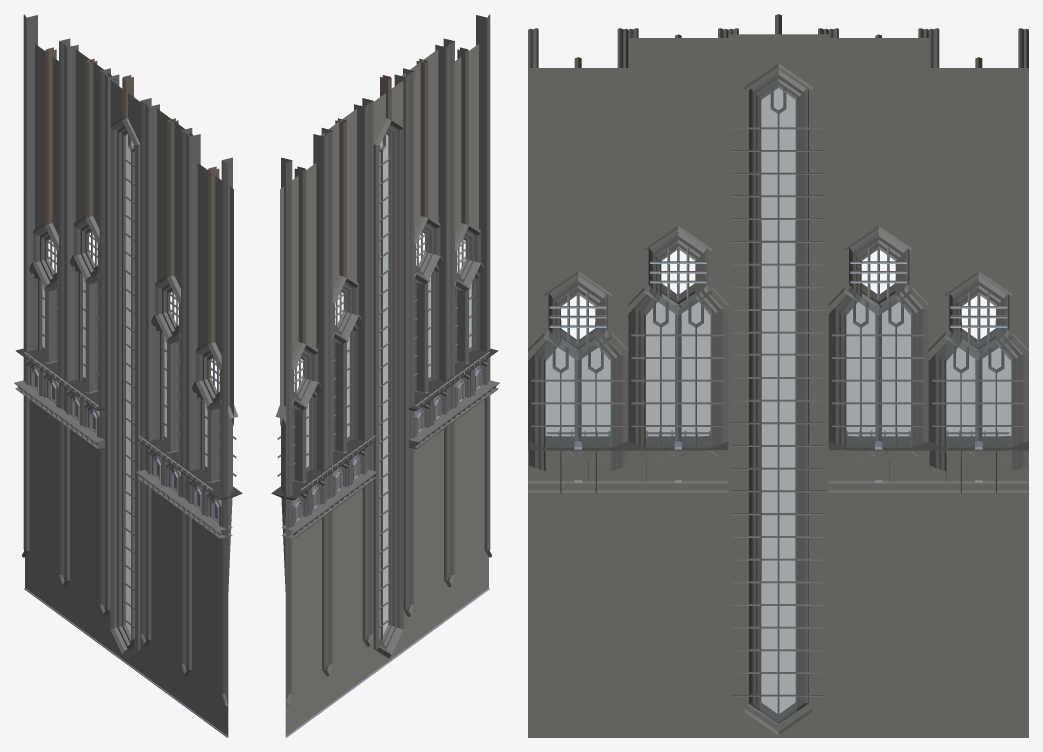
File: Back_Tile.fbx
The picture shows the model from 3 angles, left to right: view 1: azimuth 30°, elevation 25°; view 2: azimuth 150°, elevation 25°; view 3: azimuth 270°, elevation 25°; orthographic projection. The views are drawn at different scales.
Visible parts, largest first — view 1: polySurface130, pCube832, pCube217, pCube304, pCube566, polySurface501, polySurface115, polySurface575, polySurface171, polySurface605, polySurface560, polySurface603 (+35 smaller); view 2: polySurface130, pCube566, pCube304, pCube217, pCube832, polySurface501, polySurface115, polySurface603, polySurface228, polySurface576, polySurface606, polySurface575 (+35 smaller); view 3: pCube304, pCube217, pCube566, pCube832, pCube803, pCube851, polySurface503, pCube303, pCube210, pCube147, pCube591, polySurface115 (+21 smaller).
Boxes of the visible parts, x1,y1,x2,y2 form: polySurface130: (103, 74, 151, 644); pCube832: (187, 486, 228, 737); pCube217: (65, 396, 106, 646); pCube304: (147, 456, 187, 706); pCube566: (25, 367, 65, 617); polySurface501: (110, 379, 140, 658); polySurface115: (110, 117, 140, 397); polySurface575: (22, 14, 37, 557); polySurface171: (144, 103, 159, 646); polySurface605: (184, 133, 200, 676); polySurface560: (62, 44, 78, 587); polySurface603: (221, 157, 232, 706); polySurface130: (362, 74, 410, 644); pCube566: (285, 486, 326, 737); pCube304: (407, 396, 448, 646); pCube217: (326, 456, 366, 706); pCube832: (448, 367, 488, 617); polySurface501: (373, 379, 403, 658); polySurface115: (373, 117, 403, 397); polySurface603: (476, 14, 491, 557); polySurface228: (354, 103, 369, 646); polySurface576: (313, 133, 329, 676); polySurface606: (435, 44, 451, 587); polySurface575: (281, 157, 292, 706); pCube304: (628, 450, 728, 737); pCube217: (828, 450, 928, 737); pCube566: (928, 450, 1028, 737); pCube832: (528, 450, 628, 737); pCube803: (928, 68, 1028, 360); pCube851: (528, 68, 628, 360); polySurface503: (760, 81, 796, 725); pCube303: (828, 38, 928, 313); pCube210: (628, 38, 728, 313); pCube147: (728, 34, 828, 488); pCube591: (728, 443, 828, 737); polySurface115: (744, 63, 812, 400).
Size of the model in its own units: 1.65 by 31.8 by 20.
